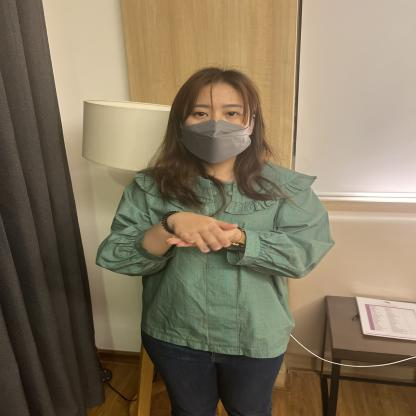Love: (110, 167, 296, 314)
